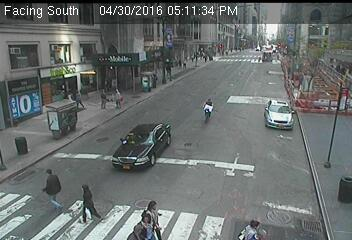neg: (33, 99, 61, 135), (289, 70, 315, 105), (135, 41, 159, 73), (256, 128, 279, 159), (308, 165, 331, 195), (144, 114, 167, 144), (37, 43, 58, 71), (252, 44, 272, 71), (205, 168, 224, 193), (277, 208, 294, 230), (197, 43, 212, 63)
pos: (72, 180, 103, 222), (33, 166, 63, 206), (201, 93, 224, 123), (149, 195, 171, 225), (131, 210, 150, 235), (112, 88, 127, 108), (244, 217, 258, 237), (98, 89, 111, 105), (75, 88, 87, 104)
